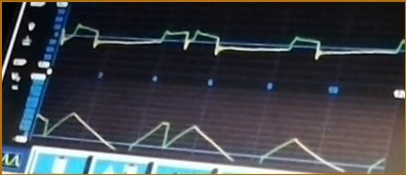Double_Triggering Flow: (58, 15, 403, 67)
Double_Triggering Volume: (37, 106, 383, 175)
